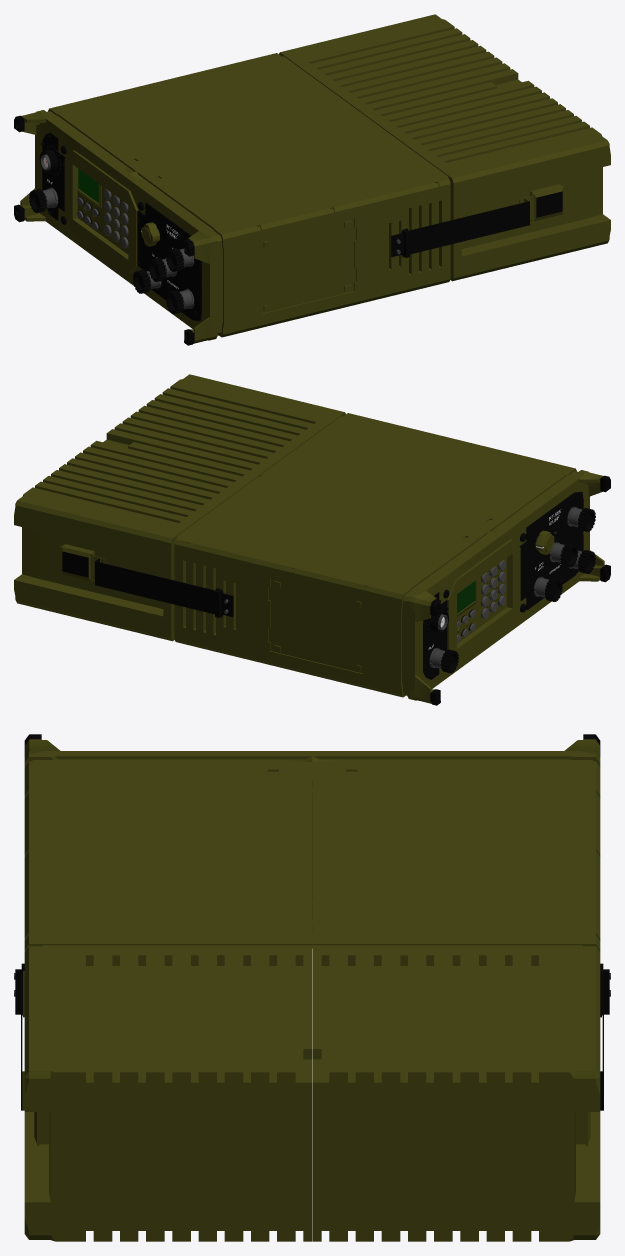
File: Aselsan VRC-9661 (2).fbx
3 views of the same model, one above another, from view 1: azimuth 30°, elevation 25°; view 2: azimuth 150°, elevation 25°; view 3: azimuth 270°, elevation 25° (orthographic). The views are drawn at different scales.
Visible parts, largest first — view 1: Box002, Cylinder028, Cylinder034, Cylinder030, Cylinder031, Cylinder029; view 2: Box002, Cylinder028, Cylinder034, Cylinder031, Cylinder029; view 3: Box002.
Boxes of the visible parts, box(x1,y1,x2,y2) form: Box002: box(14, 14, 610, 345); Cylinder028: box(39, 145, 161, 293); Cylinder034: box(29, 187, 58, 212); Cylinder030: box(166, 288, 194, 313); Cylinder031: box(166, 248, 194, 271); Cylinder029: box(148, 258, 176, 281); Box002: box(14, 374, 610, 705); Cylinder028: box(427, 577, 562, 635); Cylinder034: box(429, 648, 458, 673); Cylinder031: box(567, 506, 595, 531); Cylinder029: box(549, 542, 578, 567); Box002: box(14, 734, 610, 1241).
Bounding box in the file's own units: 24.53 × 5.71 × 18.29.
